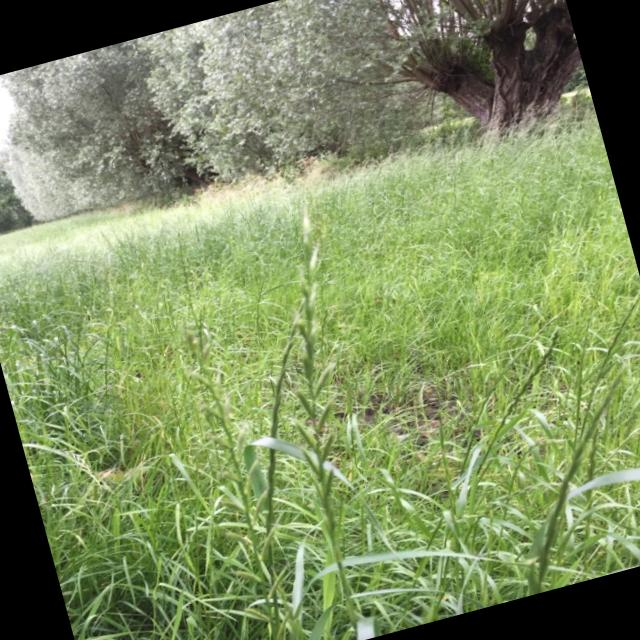Lolium: (0, 114, 640, 640), (175, 199, 423, 640), (388, 302, 636, 614)
